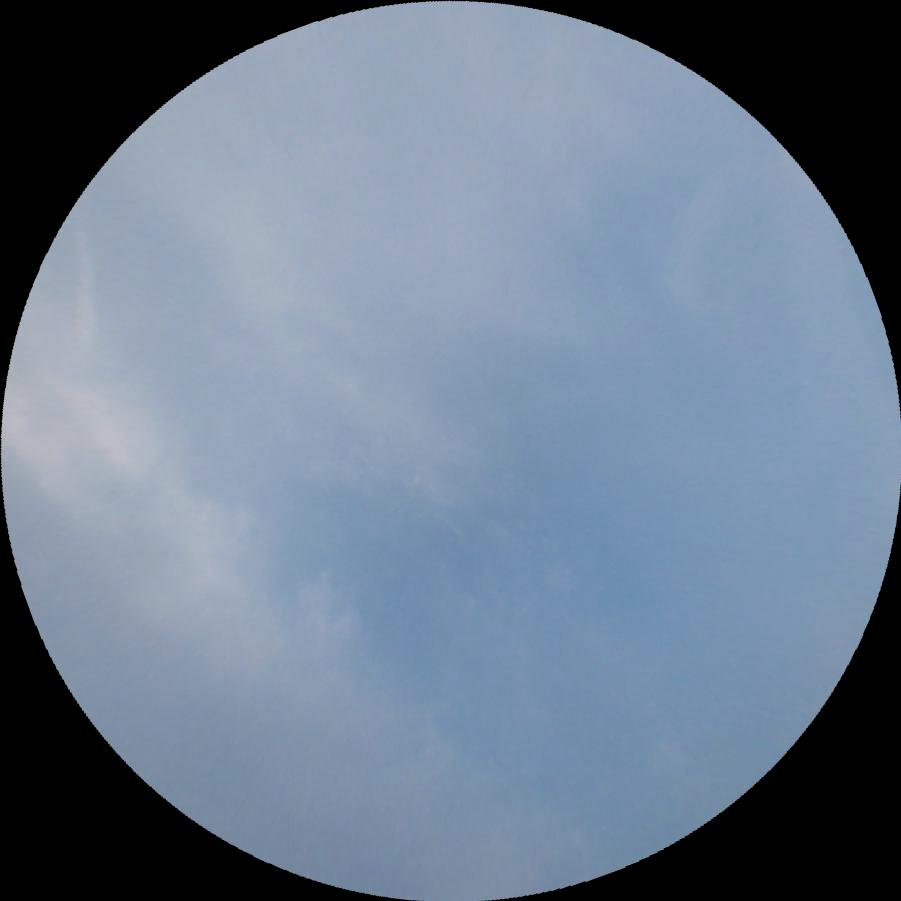contrail veryold: (69, 211, 99, 385)
